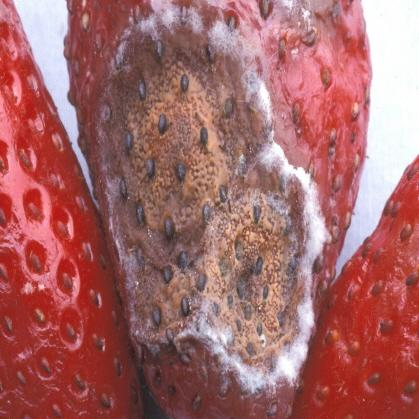Anthracnose Fruit Rot: (72, 0, 347, 417)
